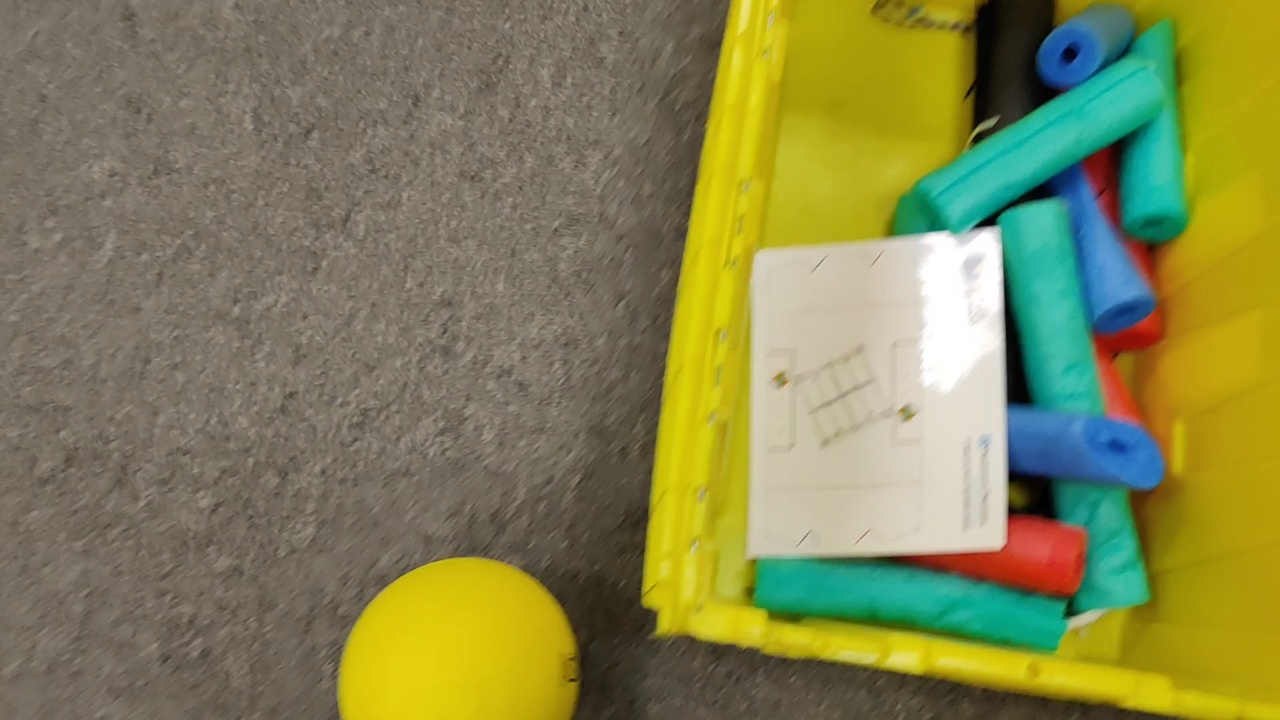Ball: (336, 556, 580, 720)
